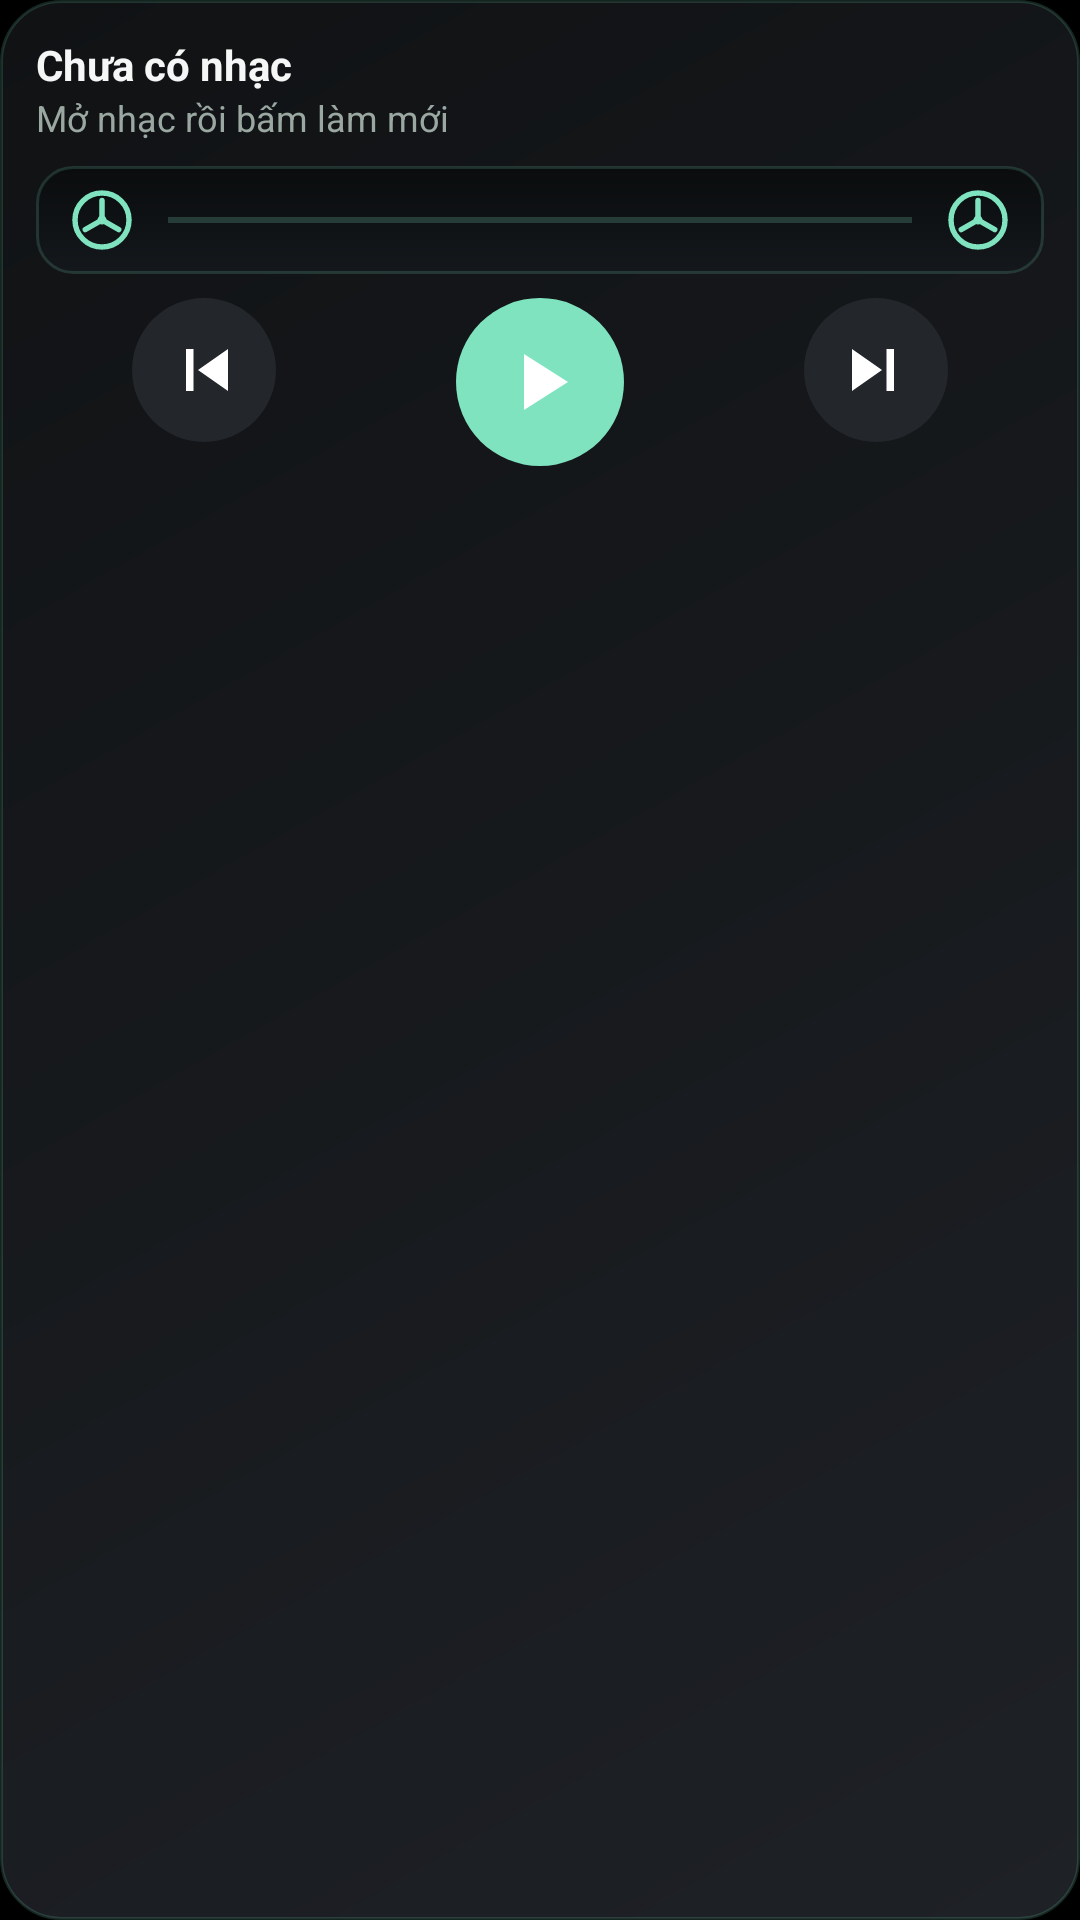

Screen size 1080 × 1920. Icon name, then its box in pixels as (x1, y1, x2, y2):
Bài kế: (852, 349, 894, 391)
Bài trước: (186, 349, 228, 391)
Cuộn băng: (72, 190, 132, 250), (948, 190, 1008, 250)
Phát / tạm dừng: (456, 298, 624, 466)
